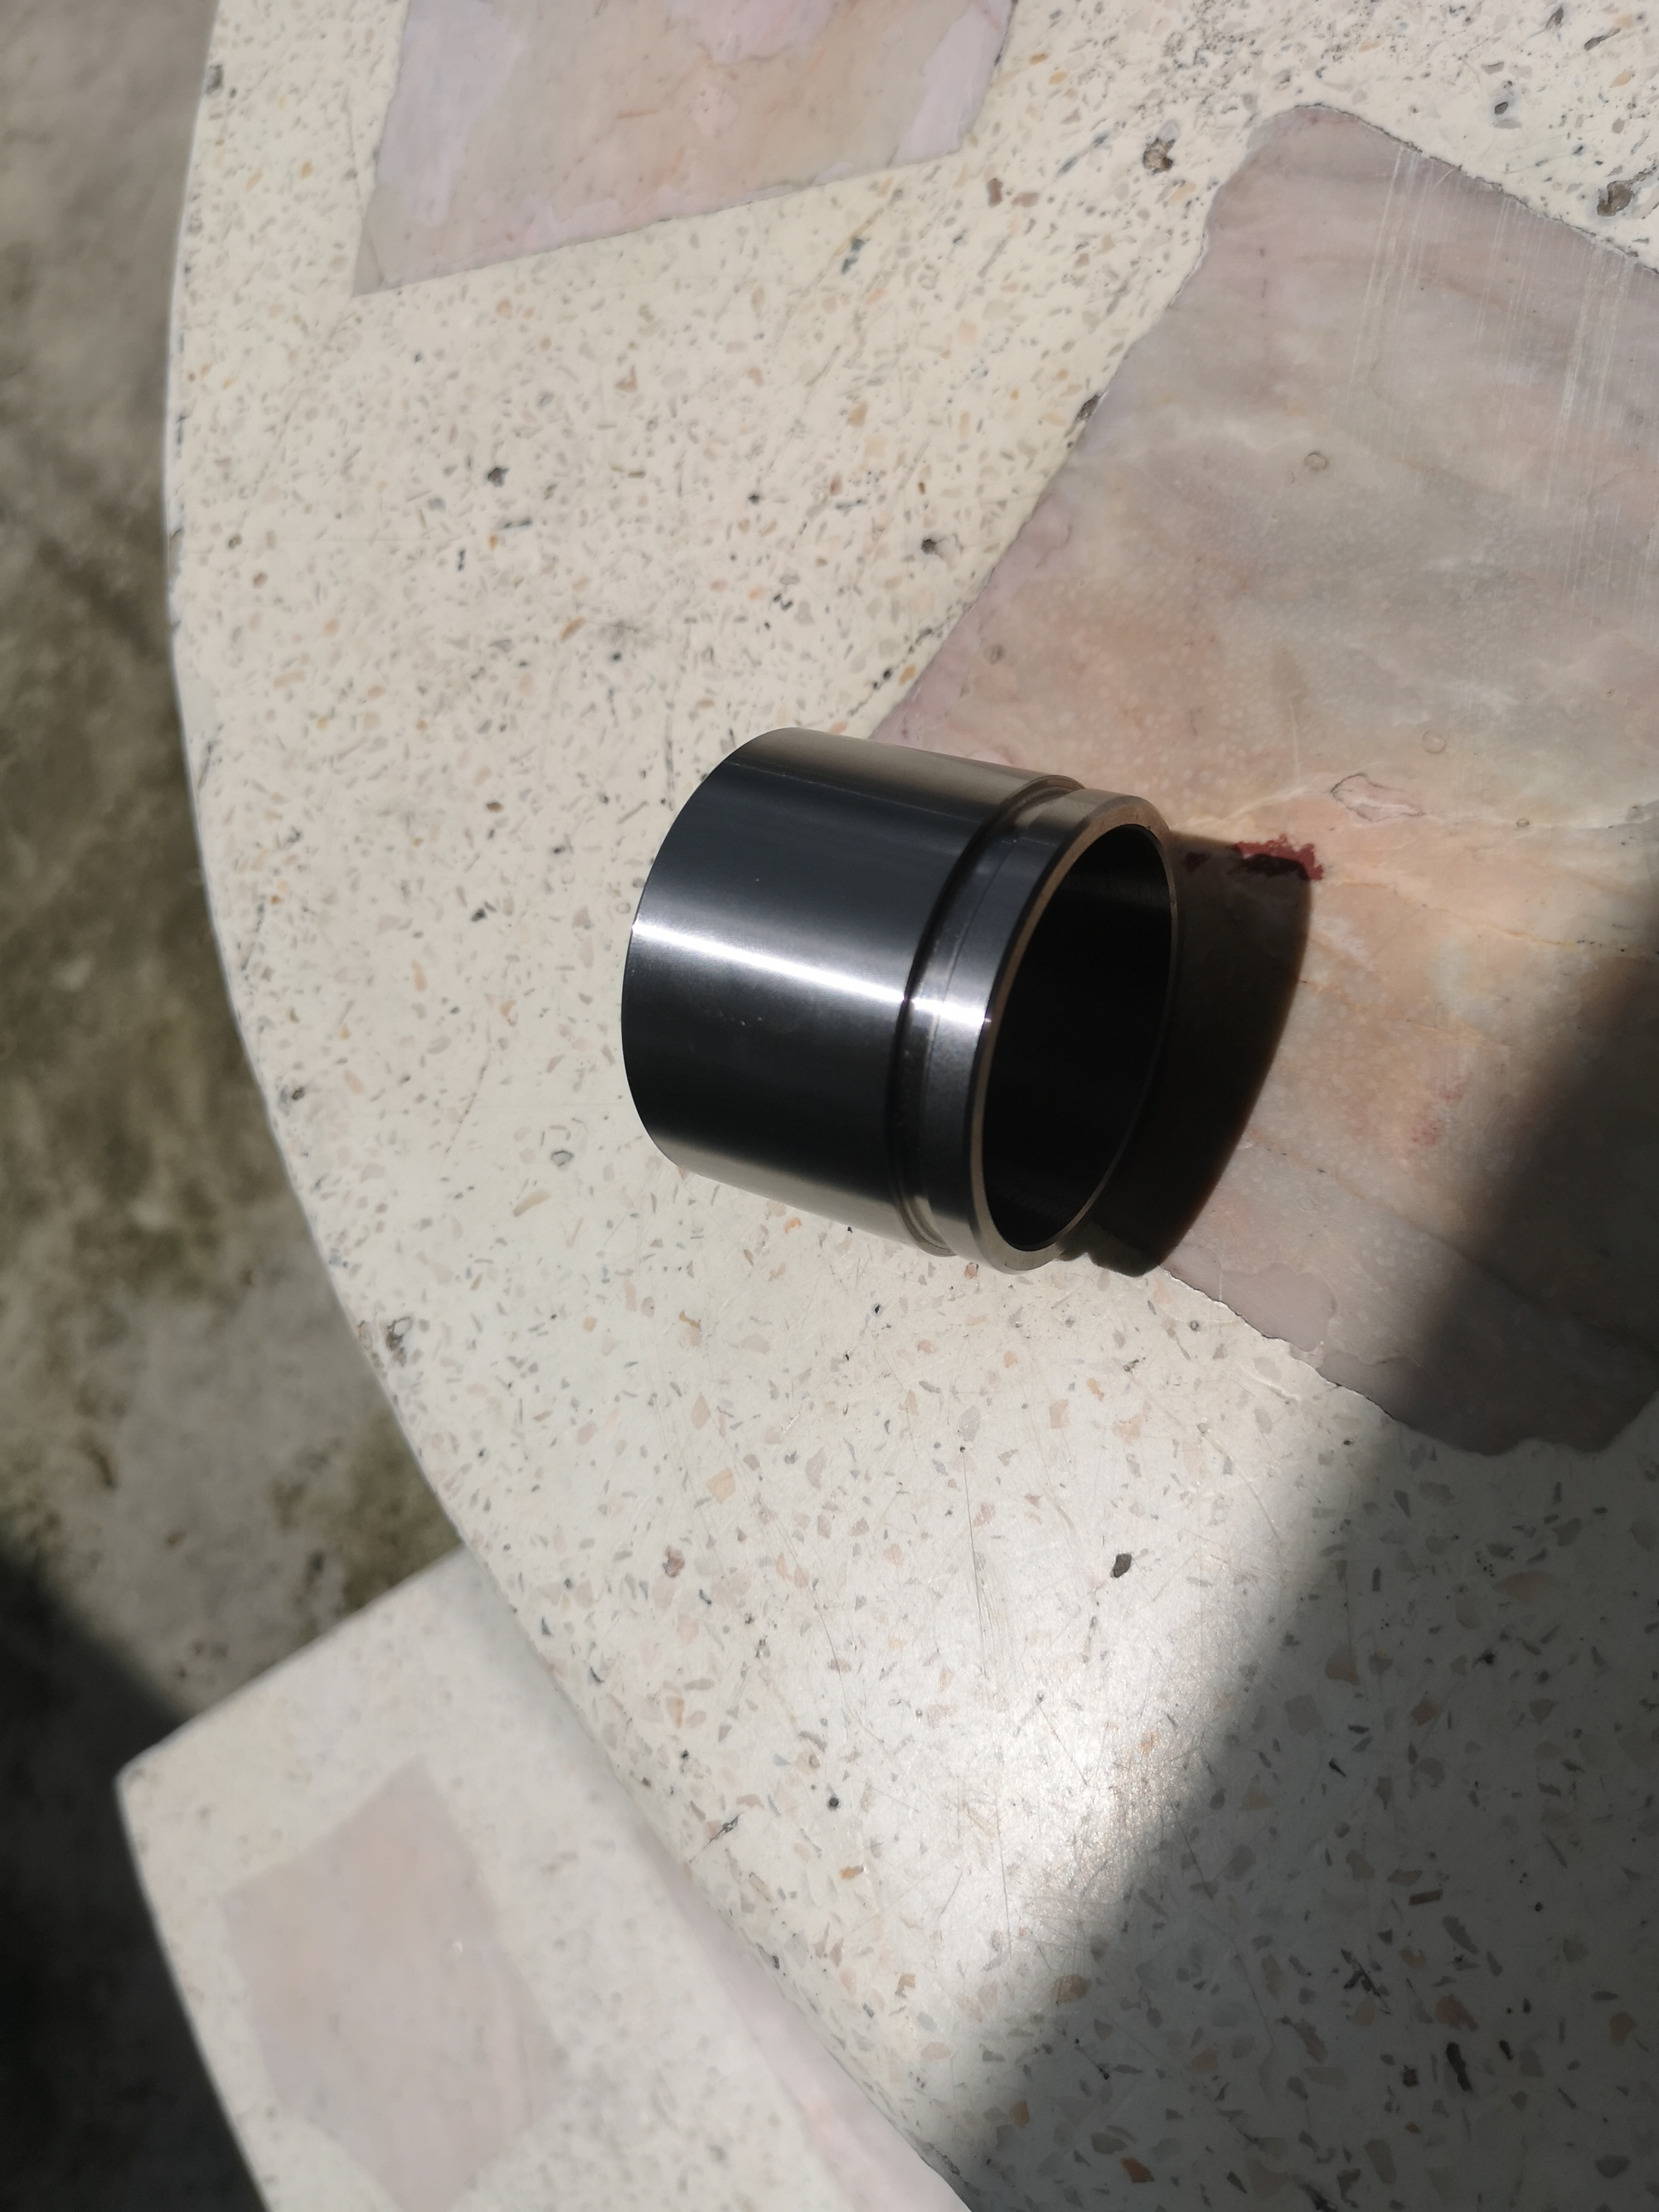ลูกสูบดิสเบรค: (589, 681, 1241, 1334)
